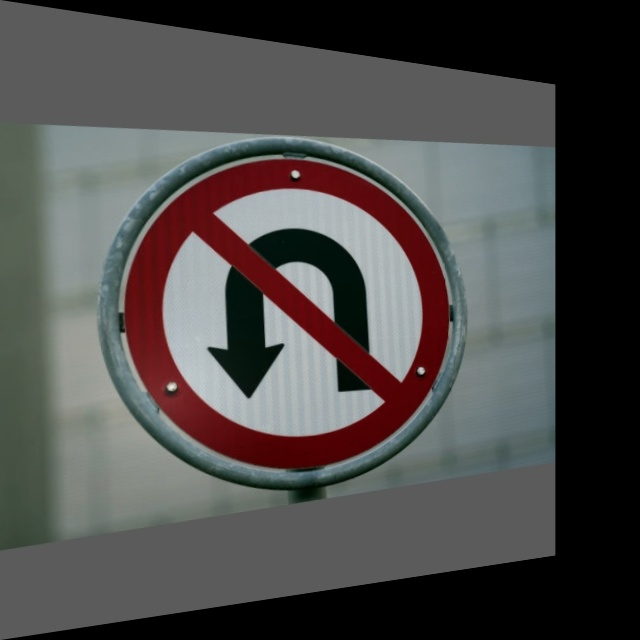U_Turn_Prohibited: (87, 102, 463, 514)
